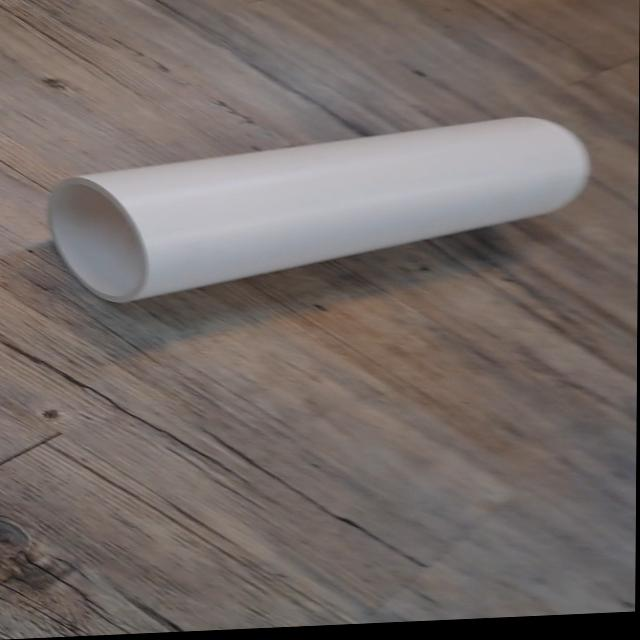CORAL: (40, 106, 595, 308)
